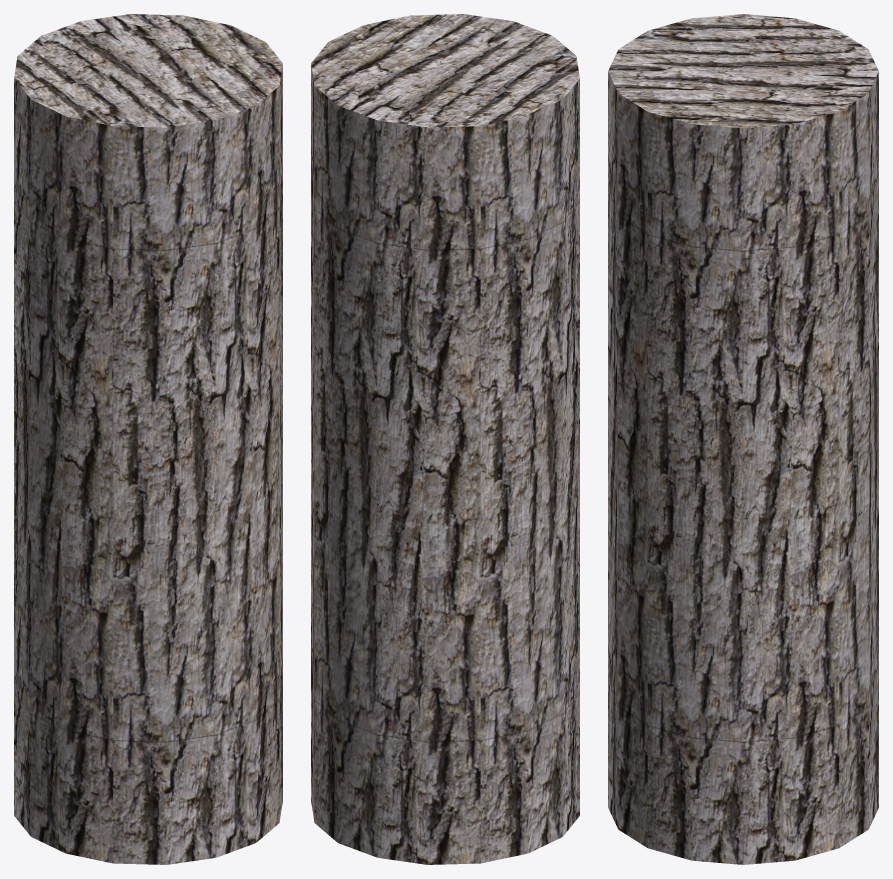
File: Juniper_Deck.fbx
3 views of the same model, side by side, from view 1: azimuth 30°, elevation 25°; view 2: azimuth 150°, elevation 25°; view 3: azimuth 270°, elevation 25° (orthographic).
Parts seen in each view (by area): view 1: Deck_1; view 2: Deck_1; view 3: Deck_1.
Boxes of the visible parts, x1,y1,x2,y2 form: Deck_1: [14, 14, 282, 864]; Deck_1: [311, 14, 579, 864]; Deck_1: [608, 14, 878, 864].
Bounding box in the file's own units: 100 × 300 × 100.
1 material, 1 textured.
